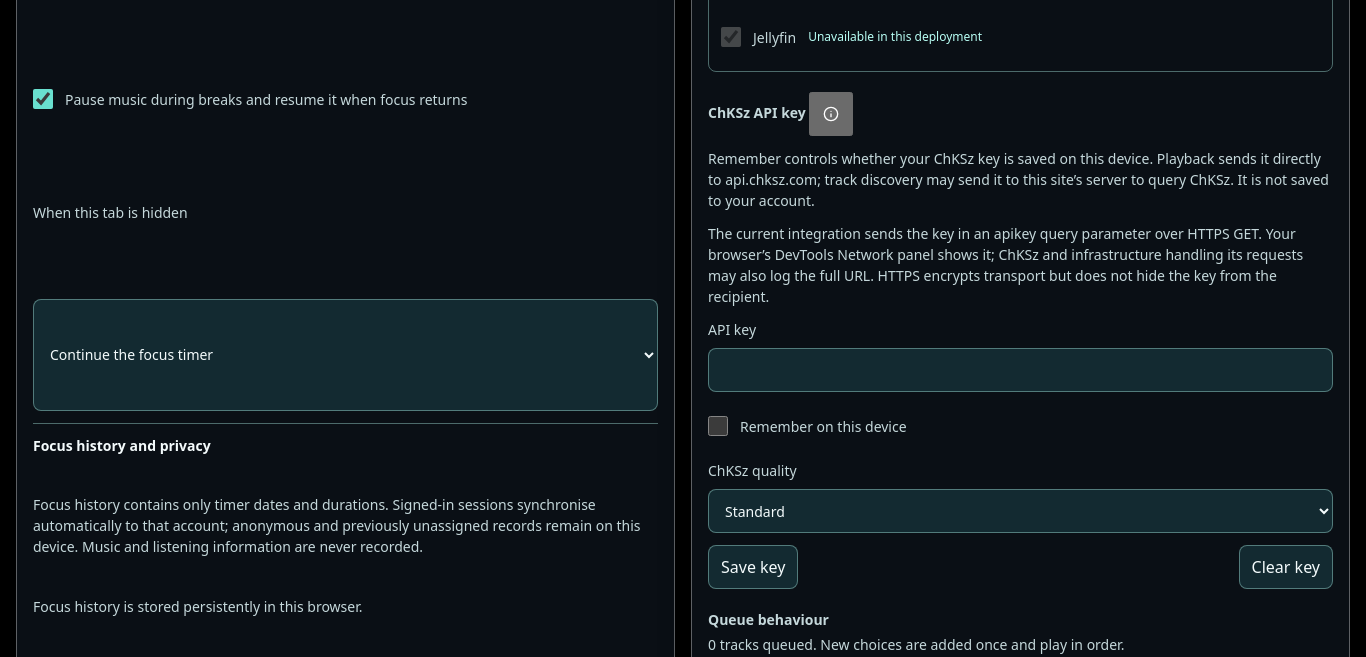
it: SettingsSheet › explains the required chksz_ prefix without echoing the entered value
(page scrolled)
Type "abc123" into the password field labelled "API key" at (1020, 370), box [708,348,1333,392]
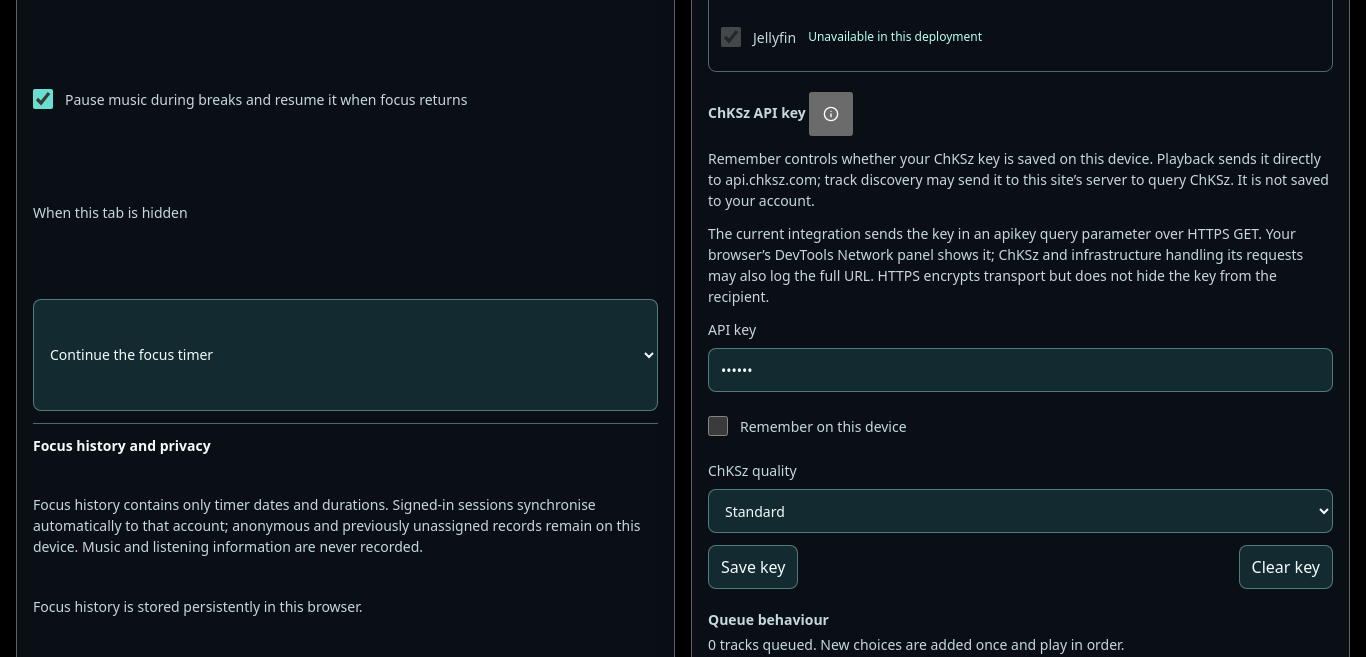
Submit the form, box [708,84,1333,597]
(page scrolled)
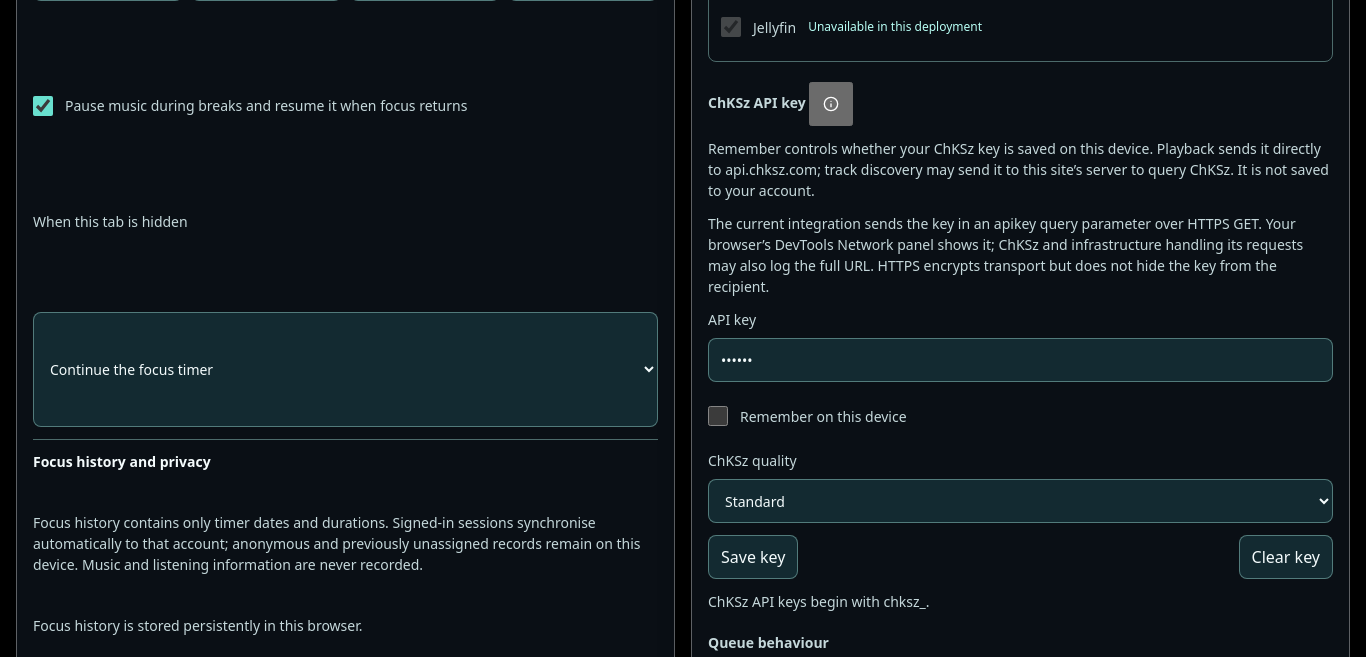
Expected: the message "ChKSz API keys begin with chksz_." is shown, [708,592,930,611]
